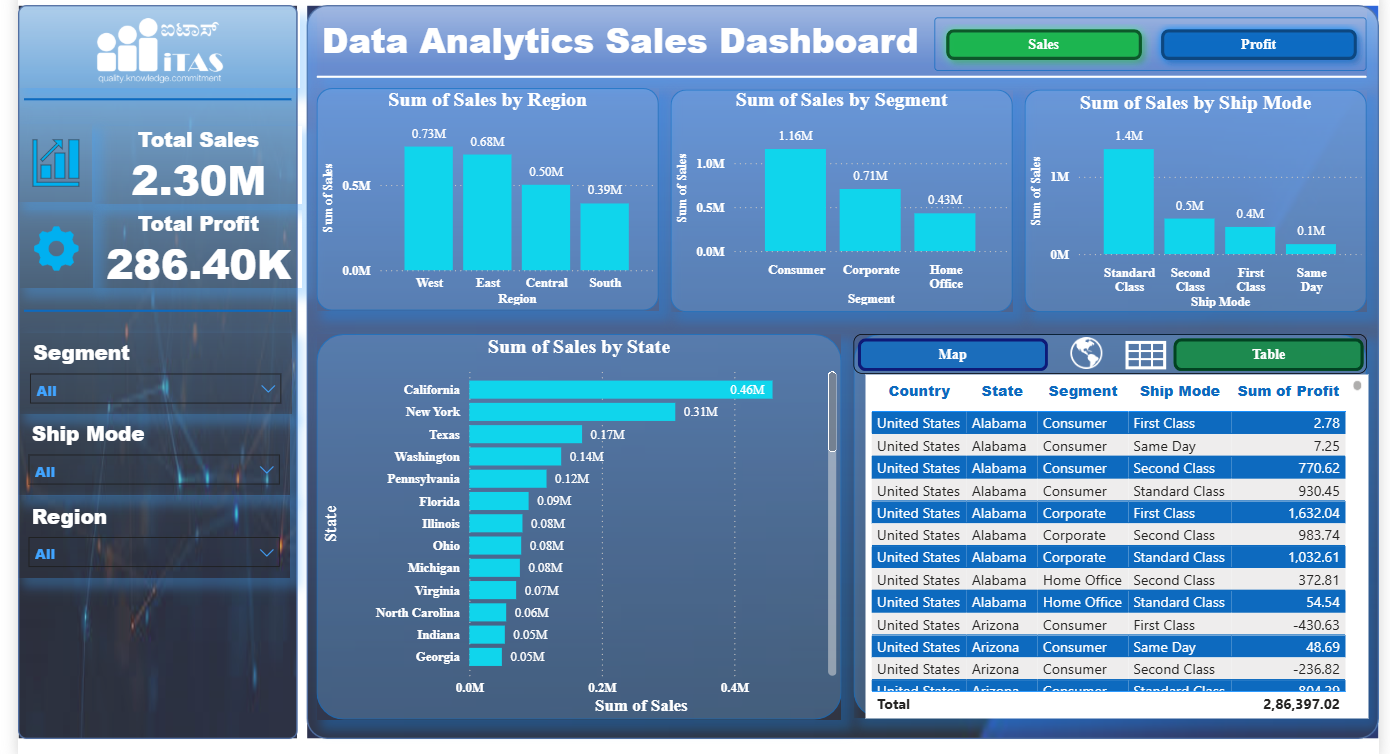

The dashboard page shown, as its layout file describes it:
{"tool":"powerbi","page":{"name":"Sales","canvas":[1280,720],"ordinal":0},"visuals":[{"type":"image","box":[0,17.2,265.5,73.4],"z":0},{"type":"image","box":[0,123.4,70.3,73.4],"z":1000},{"type":"image","box":[1.6,204.6,68.7,73.4],"z":2000},{"type":"card","title":"Total Sales","fields":{"Values":["Sum(Data.Sales)"]},"box":[71.8,124.9,195.2,73.4],"z":3000},{"type":"card","title":"Total Profit","fields":{"Values":["Sum(Data.Profit)"]},"box":[71.8,204.6,195.2,73.4],"z":4000},{"type":"shape","box":[6.2,79.7,251.5,43.7],"z":5000},{"type":"shape","box":[6.2,278,251.5,43.7],"z":6000},{"type":"slicer","fields":{"Values":["Segment.Segment"]},"box":[1.6,320.2,256.1,76.5],"z":7000},{"type":"slicer","fields":{"Values":["ShipMode.Ship Mode"]},"box":[0,396.7,256.1,76.5],"z":8000},{"type":"slicer","fields":{"Values":["Location.Region"]},"box":[0,473.2,256.1,76.5],"z":9000},{"type":"textbox","box":[281.1,17.2,987.1,62.5],"z":10000},{"type":"shape","box":[281.1,57.8,987.1,43.7],"z":11000},{"type":"shape","box":[281.1,90.6,321.7,209.3],"z":12000},{"type":"shape","box":[613.8,92.1,321.7,209.3],"z":13000},{"type":"shape","box":[946.5,92.1,321.7,209.3],"z":14000},{"type":"shape","box":[281.1,321.7,493.5,362.3],"z":15000},{"type":"shape","box":[785.6,321.7,482.6,360.8],"z":16000},{"type":"clusteredColumnChart","fields":{"Y":["Sum(Data.Sales)"],"Category":["Location.Region"]},"box":[281.1,90.6,321.7,209.3],"z":17000},{"type":"clusteredColumnChart","fields":{"Y":["Sum(Data.Sales)"],"Category":["Segment.Segment"]},"box":[613.8,90.6,321.7,209.3],"z":18000},{"type":"clusteredColumnChart","fields":{"Y":["Sum(Data.Sales)"],"Category":["ShipMode.Ship Mode"]},"box":[946.5,93.7,321.7,209.3],"z":19000},{"type":"clusteredBarChart","title":"Sum of Sales by State","fields":{"Category":["Location.State"],"Y":["Sum(Data.Sales)"]},"box":[281.1,323.3,493.5,360.8],"z":20000},{"type":"tableEx","fields":{"Values":["Location.Country","Location.State","Segment.Segment","ShipMode.Ship Mode","Sum(Data.Profit)"]},"box":[796.5,359.2,471.7,323.3],"z":22000},{"type":"bookmarkNavigator","box":[785.6,321.7,482.6,37.5],"z":23000},{"type":"pageNavigator","box":[862.1,23.4,406.1,50],"z":24000},{"type":"image","box":[979.3,312.4,48.4,53.1],"z":25000},{"type":"image","box":[1027.7,312.4,64,56.2],"z":26000}]}

Visuals, with their boxes on the page's 1280x720 design canvas (x1, y1, x2, y2). These are canvas units, not pixel positions in the 1390x754 screenshot, which may show the page scaled, cropped or inside an application window:
image: 0:17:266:91
image: 0:123:70:197
image: 2:205:70:278
"Total Sales" card: 72:125:267:198
"Total Profit" card: 72:205:267:278
shape: 6:80:258:123
shape: 6:278:258:322
slicer - Segment.Segment: 2:320:258:397
slicer - ShipMode.Ship Mode: 0:397:256:473
slicer - Location.Region: 0:473:256:550
textbox: 281:17:1268:80
shape: 281:58:1268:102
shape: 281:91:603:300
shape: 614:92:936:301
shape: 946:92:1268:301
shape: 281:322:775:684
shape: 786:322:1268:682
clusteredColumnChart - Sum(Data.Sales) x Location.Region: 281:91:603:300
clusteredColumnChart - Sum(Data.Sales) x Segment.Segment: 614:91:936:300
clusteredColumnChart - Sum(Data.Sales) x ShipMode.Ship Mode: 946:94:1268:303
"Sum of Sales by State" clusteredBarChart: 281:323:775:684
tableEx - Location.Country x Location.State: 796:359:1268:682
bookmarkNavigator: 786:322:1268:359
pageNavigator: 862:23:1268:73
image: 979:312:1028:366
image: 1028:312:1092:369
